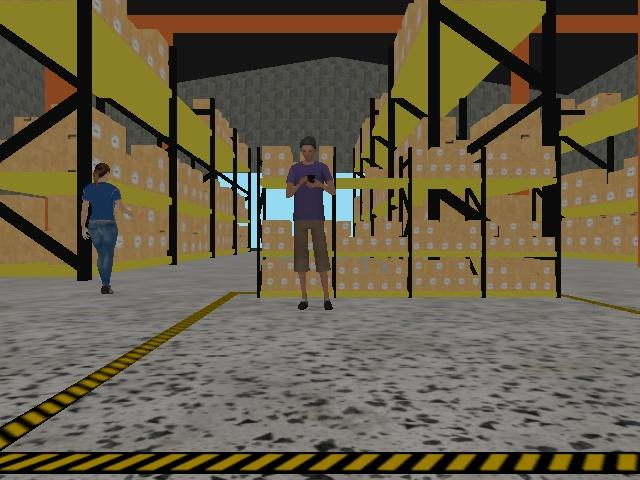person: (283, 135, 340, 314), (78, 161, 138, 293)
